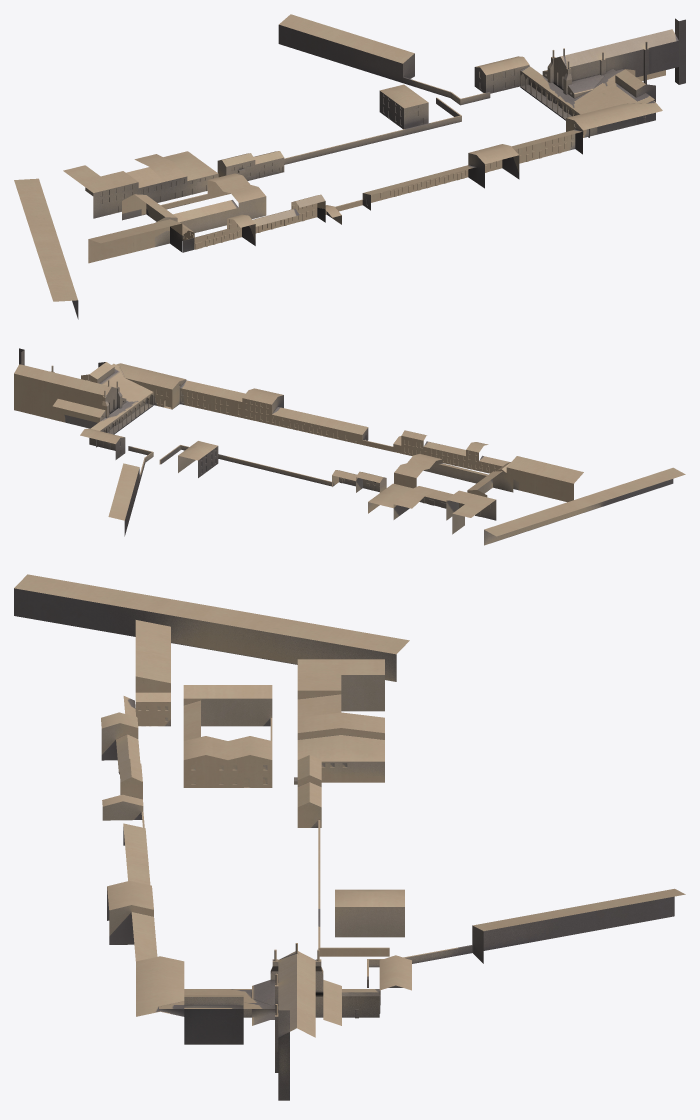
The model's file is Edifici cucinati 2K carta beige.glb.
3 renders of one model, top to bottom at view 1: azimuth 30°, elevation 25°; view 2: azimuth 150°, elevation 25°; view 3: azimuth 270°, elevation 25°, orthographic. The views are drawn at different scales.
Parts seen in each view (by area): view 1: Contesto; view 2: Contesto; view 3: Contesto.
Boxes of the visible parts, x1=… form: Contesto: x1=14, y1=14, x2=685, y2=319; Contesto: x1=14, y1=348, x2=685, y2=545; Contesto: x1=14, y1=574, x2=685, y2=1100.
Bounding box in the file's own units: 310 × 26.19 × 176.
1 material, 1 textured.
